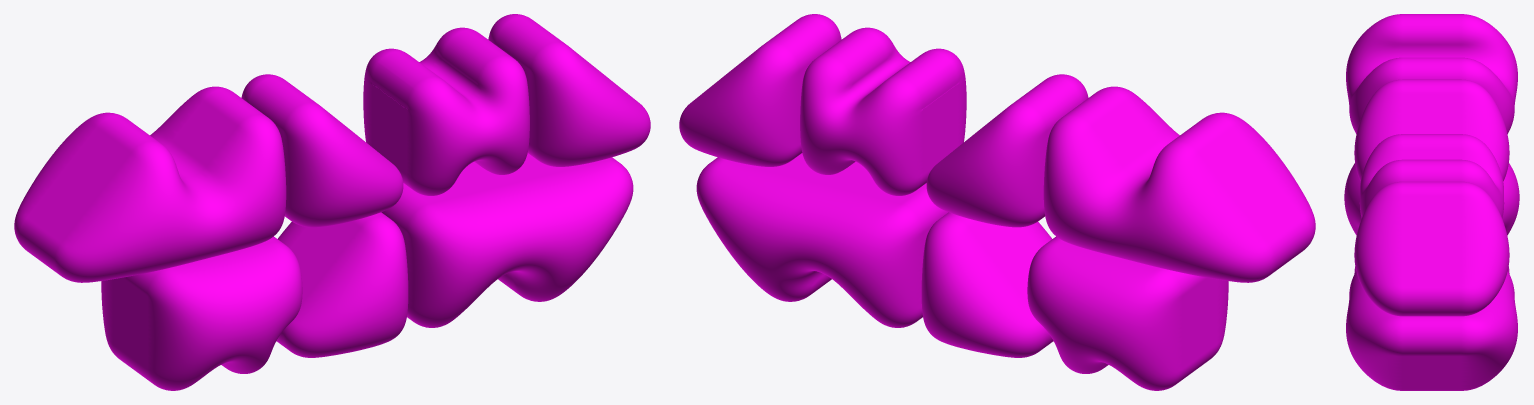
The model's file is Fichier 1.gltf.
The picture shows the model from 3 angles, left to right: view 1: azimuth 30°, elevation 25°; view 2: azimuth 150°, elevation 25°; view 3: azimuth 270°, elevation 25°; orthographic projection. The views are drawn at different scales.
Bounding box in the file's own units: 0.3278 × 0.1337 × 0.0994.
